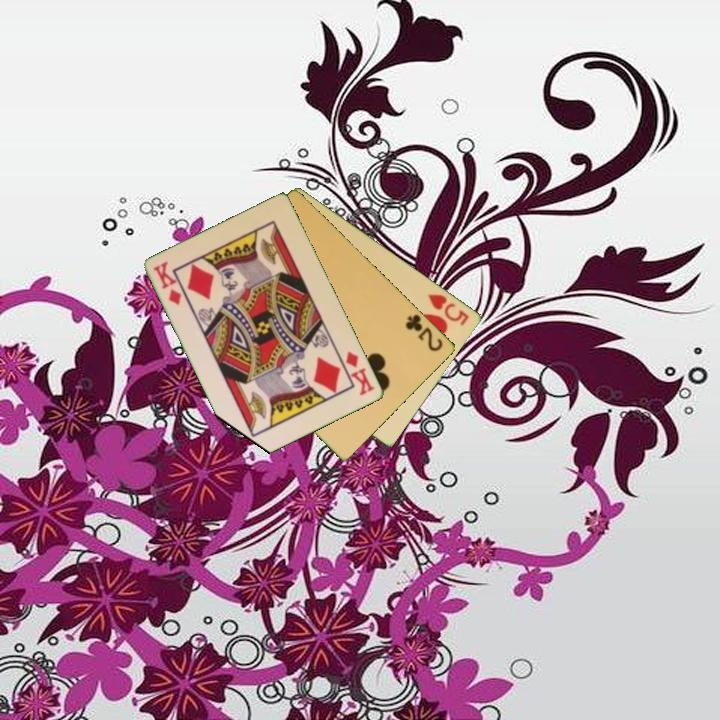2c: (402, 311, 446, 354)
5h: (424, 290, 472, 329)
Kd: (342, 347, 378, 399), (149, 258, 185, 308)
